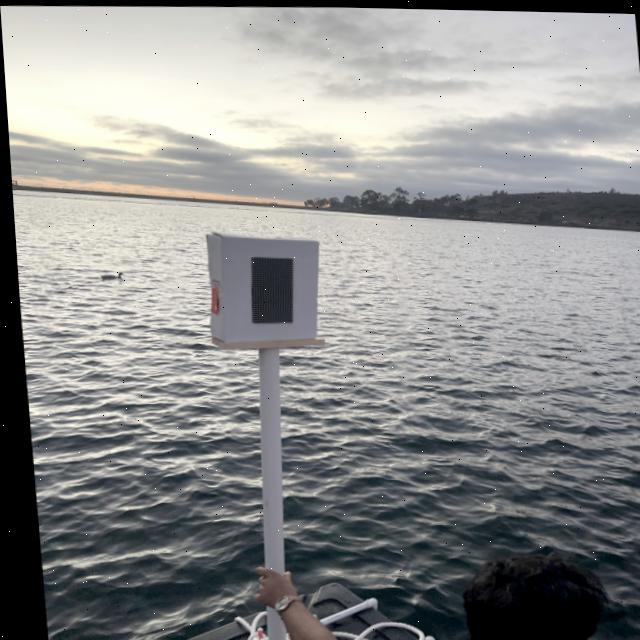led: (224, 234, 310, 341)
